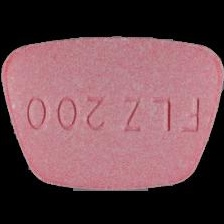54868-5144: (0, 0, 224, 224)
